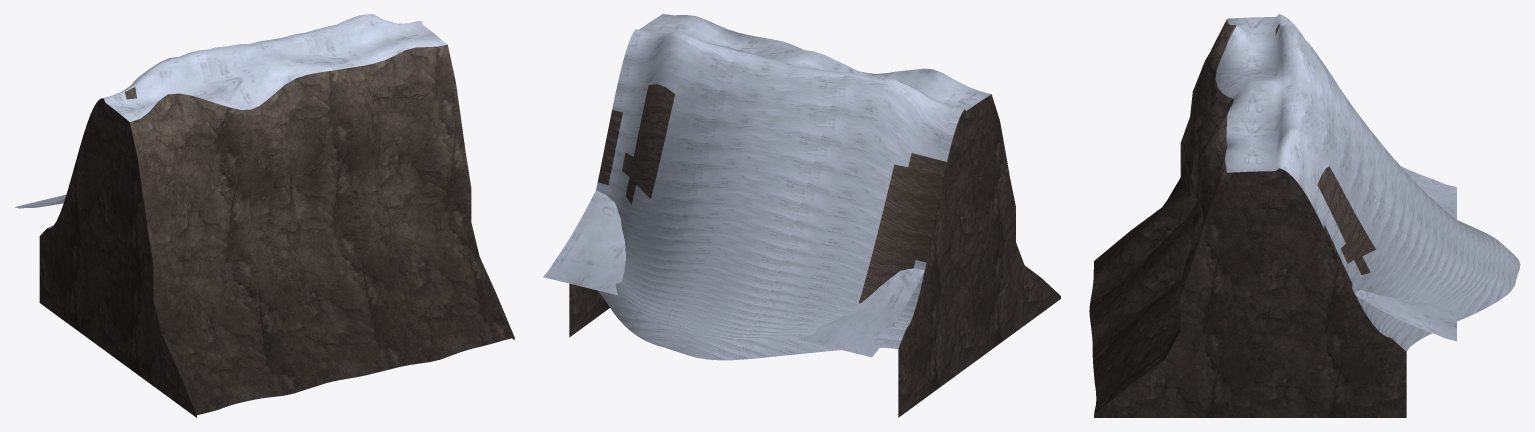
The model's file is seacliff_straight6_h3_v5_winter.glb.
3 views of the same model, side by side, from view 1: azimuth 30°, elevation 25°; view 2: azimuth 150°, elevation 25°; view 3: azimuth 270°, elevation 25° (orthographic). The views are drawn at different scales.
Visible parts, largest first — view 1: seacliff_straight6_h3; view 2: seacliff_straight6_h3; view 3: seacliff_straight6_h3.
Boxes of the visible parts, left/top/right/bottom form: seacliff_straight6_h3: left=14, top=14, right=514, bottom=417; seacliff_straight6_h3: left=543, top=14, right=1060, bottom=417; seacliff_straight6_h3: left=1089, top=14, right=1520, bottom=417.
Bounding box in the file's own units: 6 × 4.87 × 7.09.
2 materials, 2 textured.
